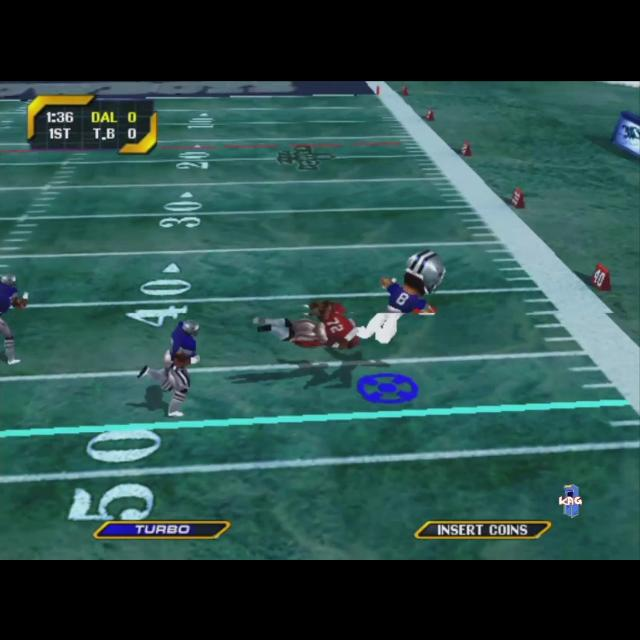player: (358, 249, 446, 343), (136, 318, 200, 416), (254, 299, 362, 349), (0, 271, 28, 363)
